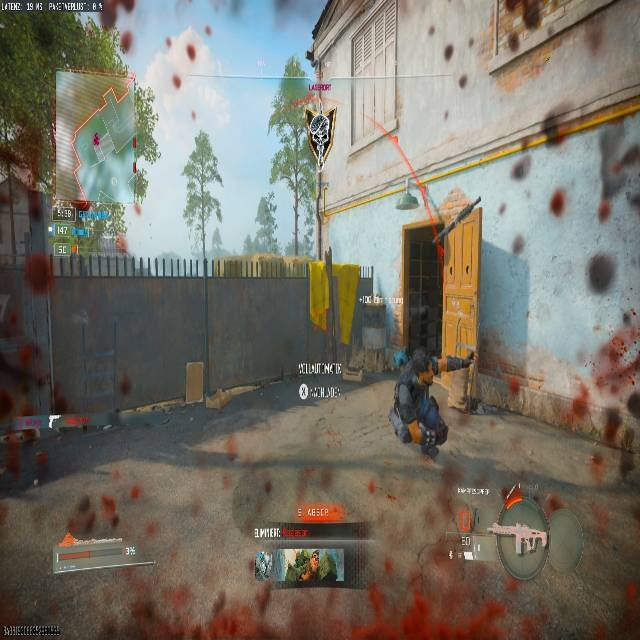player: (388, 343, 477, 461)
